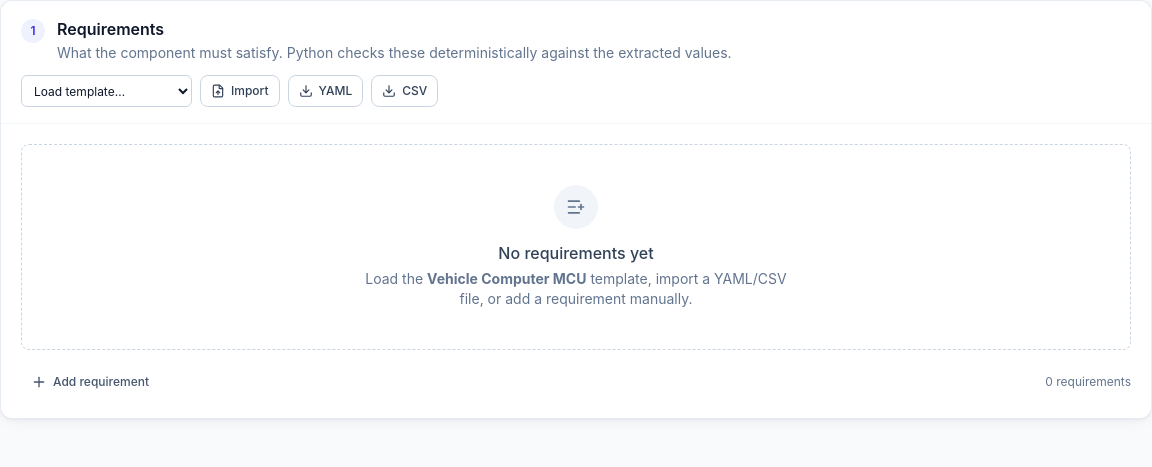
Test: RequirementsEditor › shows an empty state and loads a template
The image size is (1152, 467).
Check: the text "No requirements yet" is shown, box left=498, top=241, right=654, bottom=265
Select "Vehicle Computer MCU" in the dropdown named "Load template" at (106, 91), box left=21, top=75, right=192, bottom=107
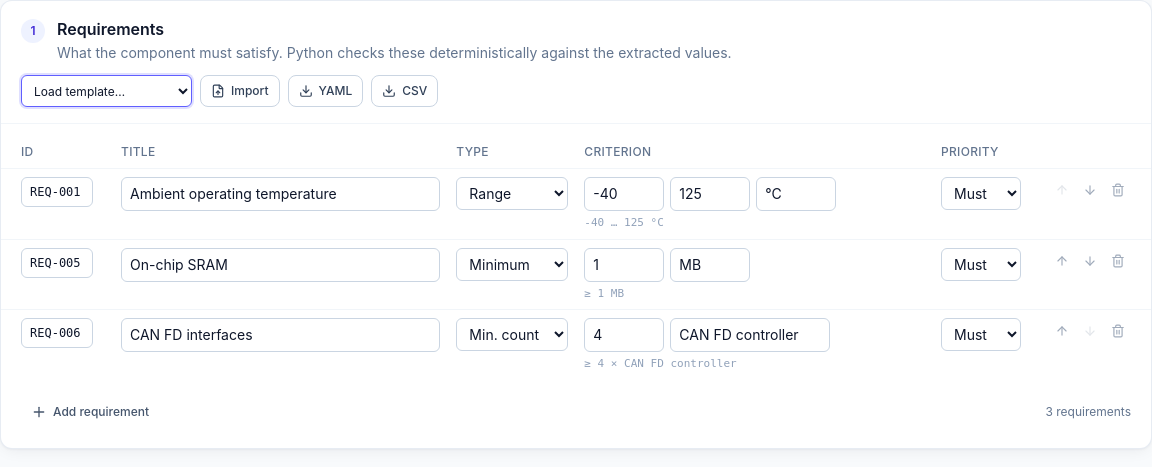
Check: the text "3 requirements" is shown, box left=1046, top=404, right=1131, bottom=420
